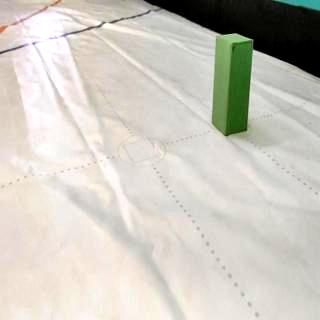greenbox: (211, 30, 255, 136)
